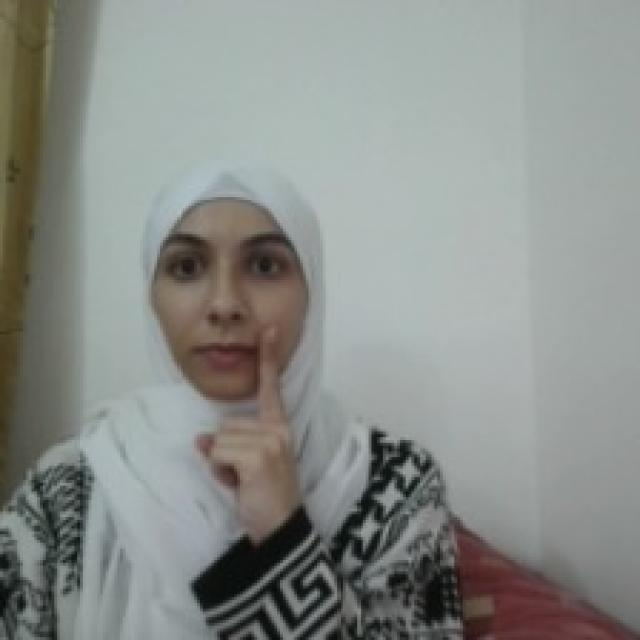mother: (189, 320, 301, 540)
